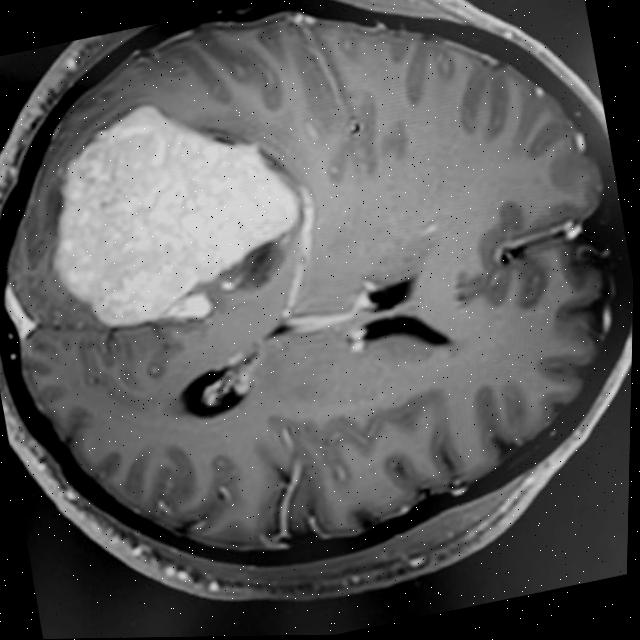Meningioma: (24, 77, 322, 349)
